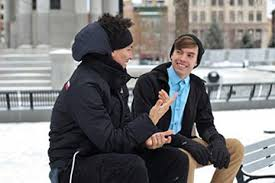person: (70, 15, 148, 113), (142, 24, 214, 126)
